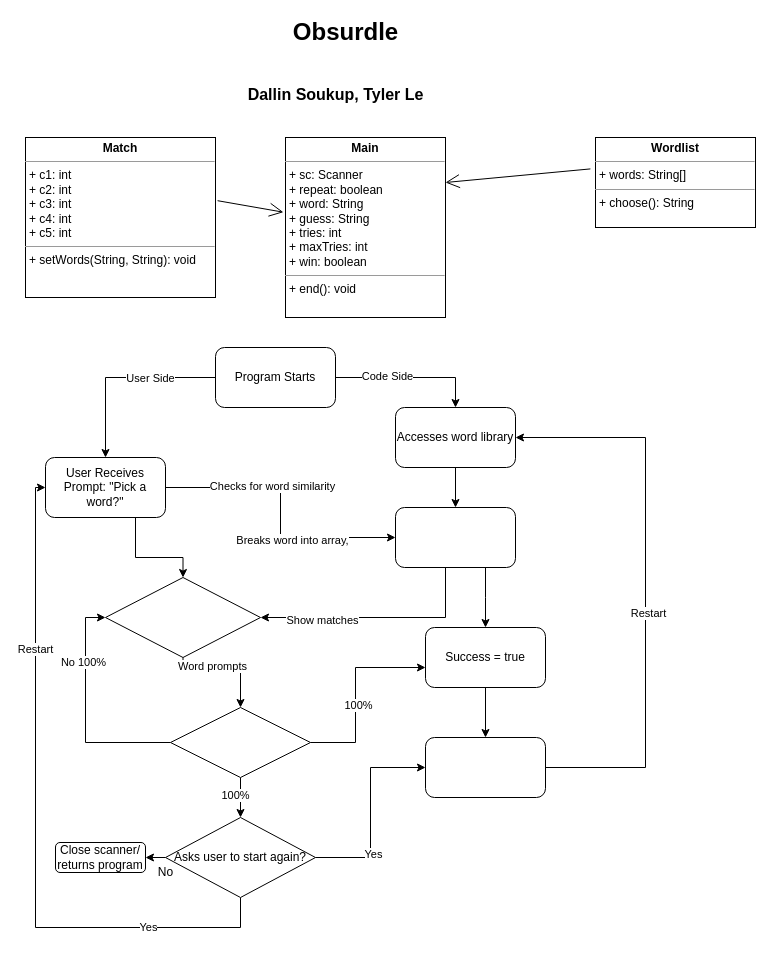
This 773x953 diagram has some shape labels left out. Here are the shapes that lost their labels. From the top down, the centre of each, then its label:
At (455,537): "Match word by array, for every letter (6 letters).".
At (182,617): "User gets results (shows letter matches/similarities/ no matches)".
At (240,742): "Test words until 100% match".
At (485,767): "Clears cache, picks new word from library".
